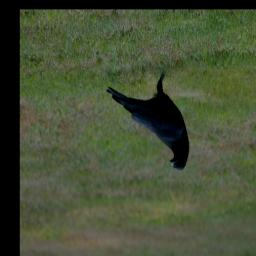Crow: (105, 70, 189, 173)
